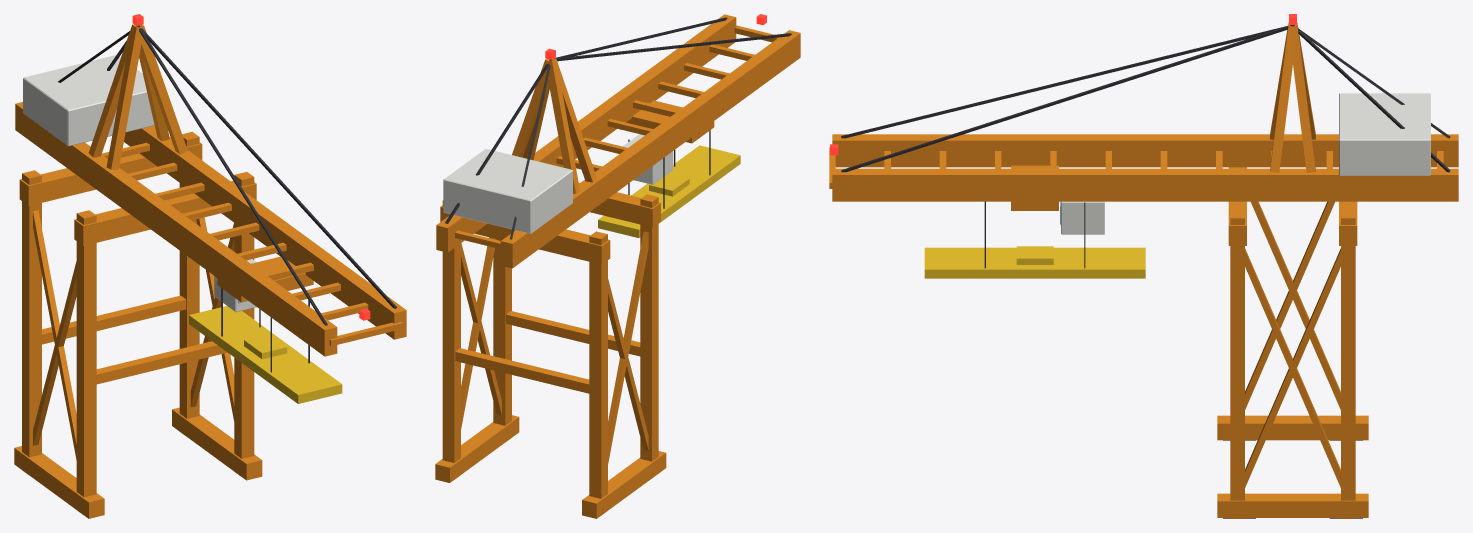
The model's file is gantry_crane.glb.
3 renders of one model, left to right at view 1: azimuth 30°, elevation 25°; view 2: azimuth 150°, elevation 25°; view 3: azimuth 270°, elevation 25°, orthographic. The views are drawn at different scales.
Visible parts, largest first — view 1: gantry_crane__Body; view 2: gantry_crane__Body; view 3: gantry_crane__Body.
Boxes of the visible parts, x1,y1,x2,y2 form: gantry_crane__Body: (14,14,406,518); gantry_crane__Body: (435,14,800,518); gantry_crane__Body: (829,14,1458,518).
Size of the model in its own units: 11 by 27.63 by 34.17.
